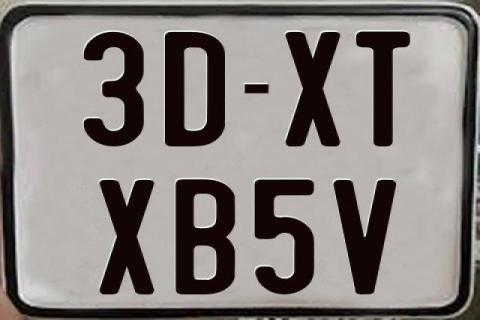0: (251, 178, 315, 298), (82, 31, 146, 146)
B: (174, 177, 237, 292)
D: (162, 31, 226, 145)
T: (356, 29, 412, 145)
V: (333, 180, 401, 298)
X: (284, 31, 340, 151), (98, 178, 152, 294)
